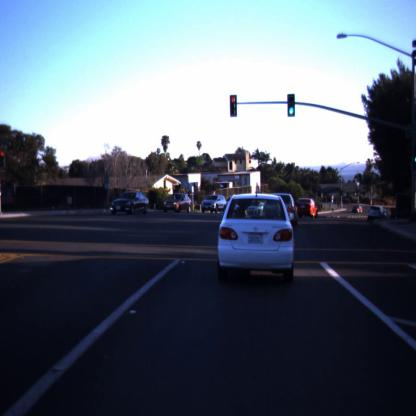trafficlight: (286, 93, 296, 117), (229, 95, 237, 118)
